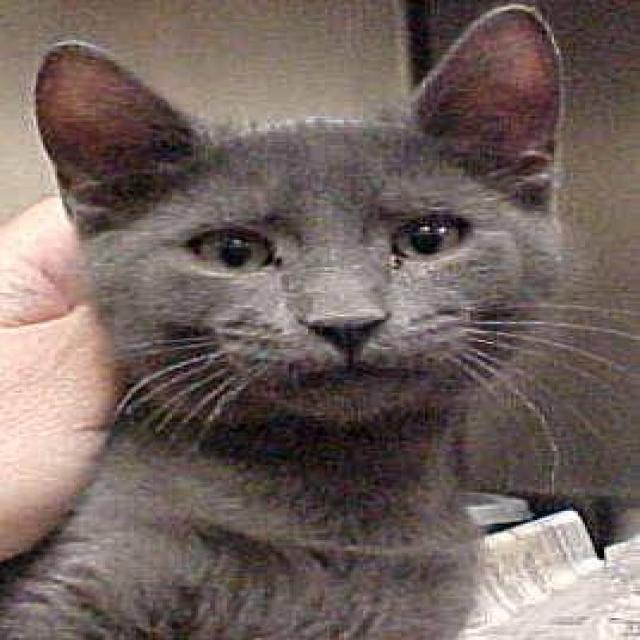cat: (0, 4, 638, 638)
